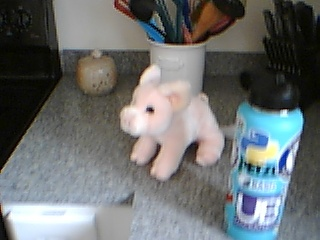piggy: (119, 63, 227, 183)
